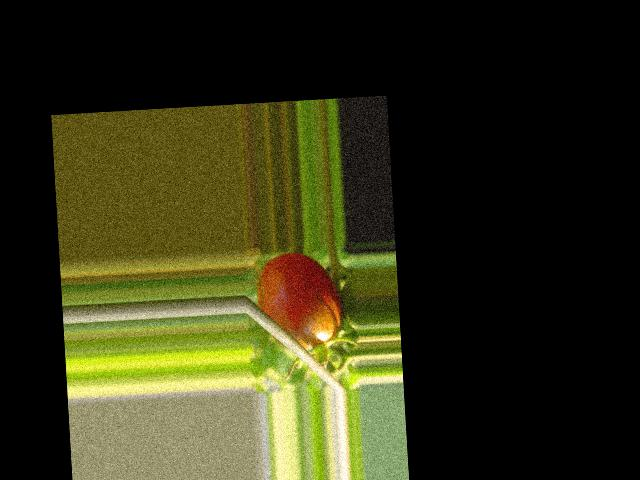tomato: (256, 251, 342, 352)
